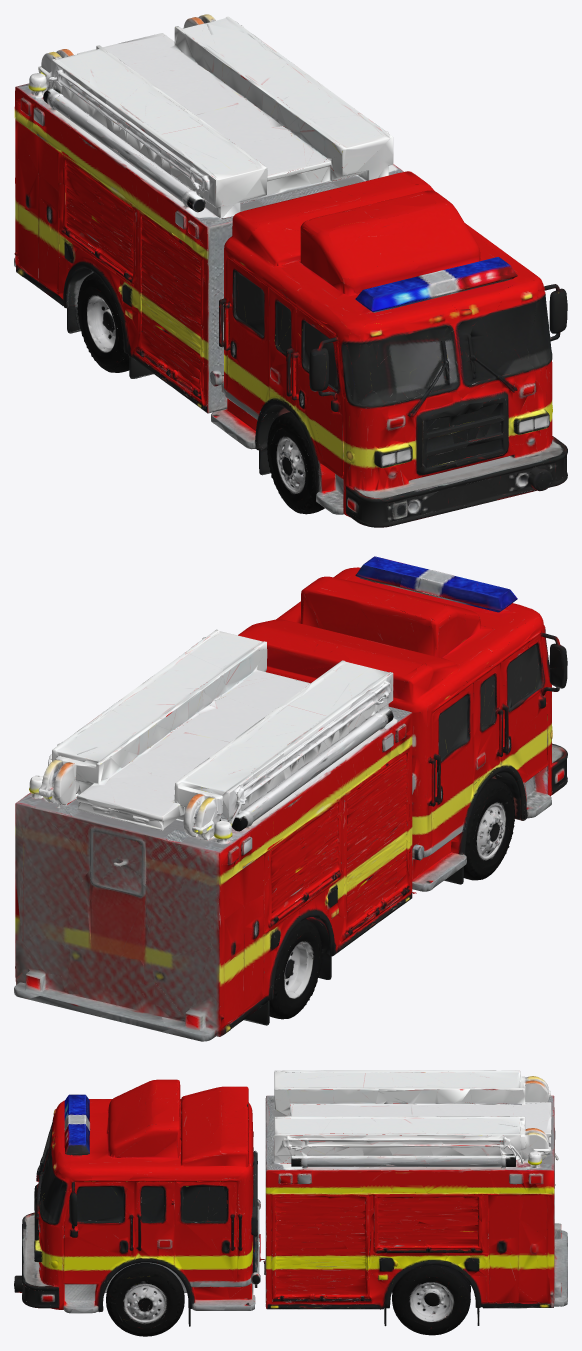
File: fire-rescue.glb
3 views of the same model, one above another, from view 1: azimuth 30°, elevation 25°; view 2: azimuth 150°, elevation 25°; view 3: azimuth 270°, elevation 25° (orthographic). The views are drawn at different scales.
Visible parts, largest first — view 1: fire-rescue; view 2: fire-rescue; view 3: fire-rescue.
Boxes of the visible parts, <box> form: fire-rescue: <box>14,14,567,527</box>; fire-rescue: <box>14,556,567,1041</box>; fire-rescue: <box>14,1070,567,1336</box>.
Size of the model in its own units: 4 by 3.98 by 10.
1 material, 1 textured.
